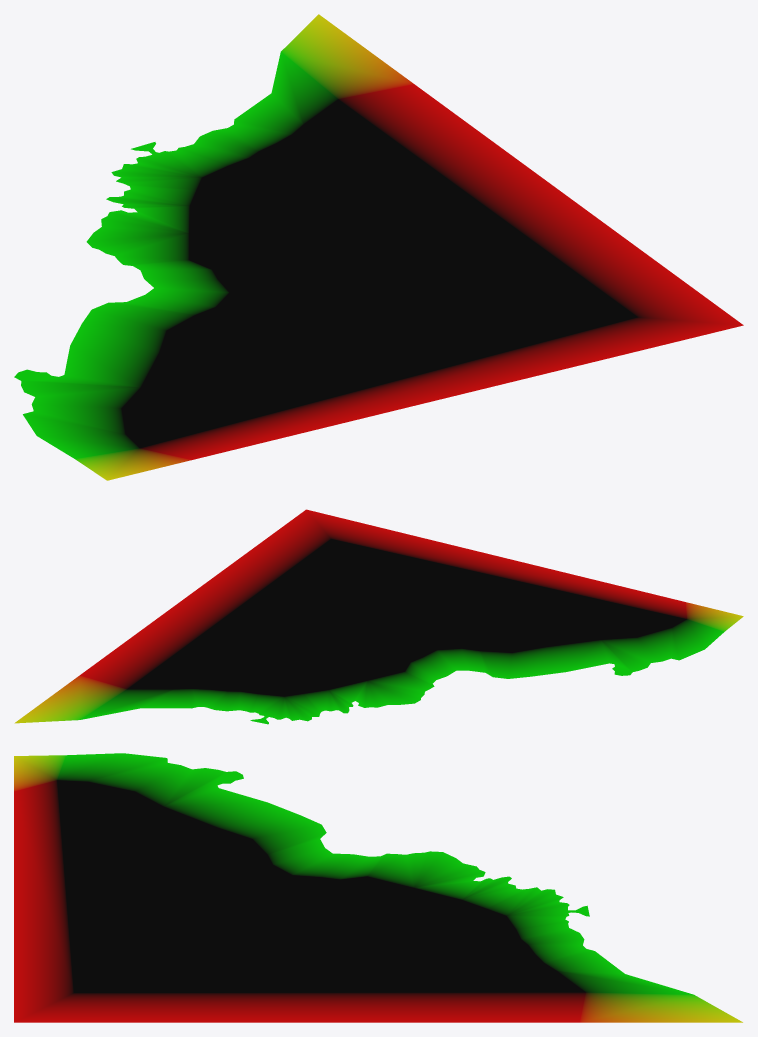
The model's file is SM_Sea_01.fbx.
3 views of the same model, one above another, from view 1: azimuth 30°, elevation 25°; view 2: azimuth 150°, elevation 25°; view 3: azimuth 270°, elevation 25° (orthographic). The views are drawn at different scales.
Parts seen in each view (by area): view 1: SM_Seashore; view 2: SM_Seashore; view 3: SM_Seashore.
Boxes of the visible parts, left/top/right/bottom form: SM_Seashore: left=14, top=14, right=743, bottom=480; SM_Seashore: left=14, top=509, right=743, bottom=724; SM_Seashore: left=14, top=753, right=742, bottom=1022.
Size of the model in its own units: 93567 by 2.53e-05 by 107057.
